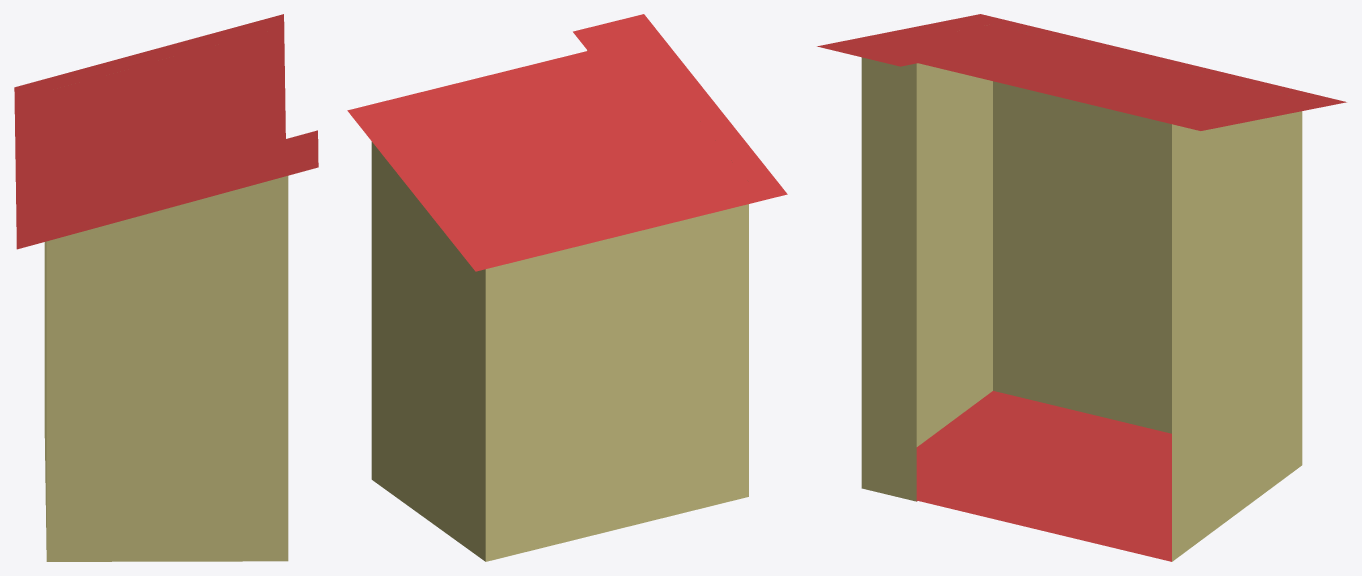
3 views of the same model, side by side, from view 1: azimuth 30°, elevation 25°; view 2: azimuth 150°, elevation 25°; view 3: azimuth 270°, elevation 25° (orthographic). The views are drawn at different scales.
Size of the model in its own units: 7.06 by 8.04 by 7.47.
